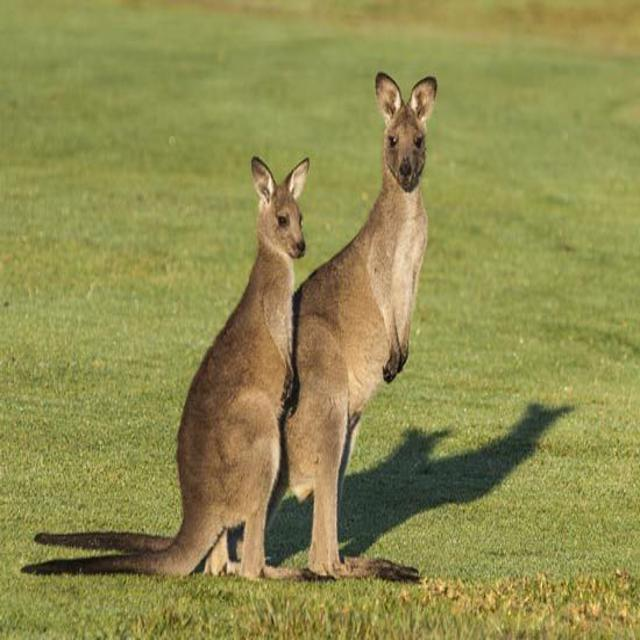kangaroo: (293, 70, 438, 585), (164, 153, 315, 578)
